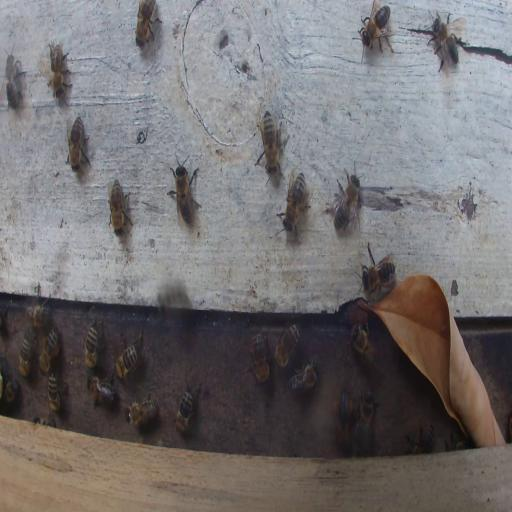nonpollenbee: (167, 149, 201, 229), (425, 8, 464, 74), (329, 164, 362, 234), (278, 170, 312, 236), (356, 1, 394, 58), (257, 110, 285, 176), (48, 39, 72, 105), (360, 249, 396, 293), (351, 321, 380, 372), (113, 330, 141, 382), (173, 382, 201, 432), (134, 0, 162, 48), (66, 115, 90, 170), (273, 322, 301, 369), (108, 180, 132, 234), (4, 51, 24, 109), (125, 394, 158, 428), (249, 332, 270, 384), (287, 360, 319, 394), (355, 392, 377, 440), (86, 375, 117, 408), (28, 288, 51, 330), (406, 422, 436, 454), (46, 372, 65, 412), (85, 322, 99, 370), (19, 333, 31, 379), (2, 375, 18, 406)
pollenbee: (333, 382, 355, 454), (38, 322, 62, 377)
